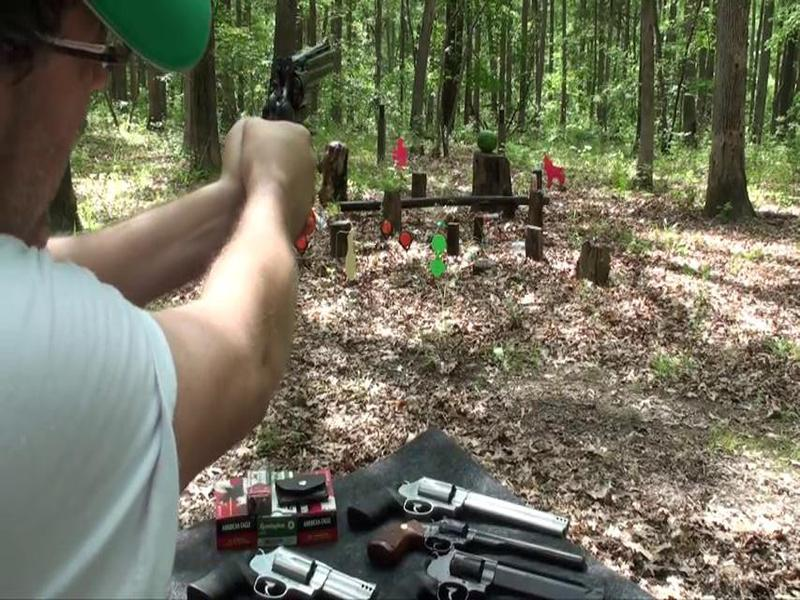Revolver: (246, 40, 352, 159)
